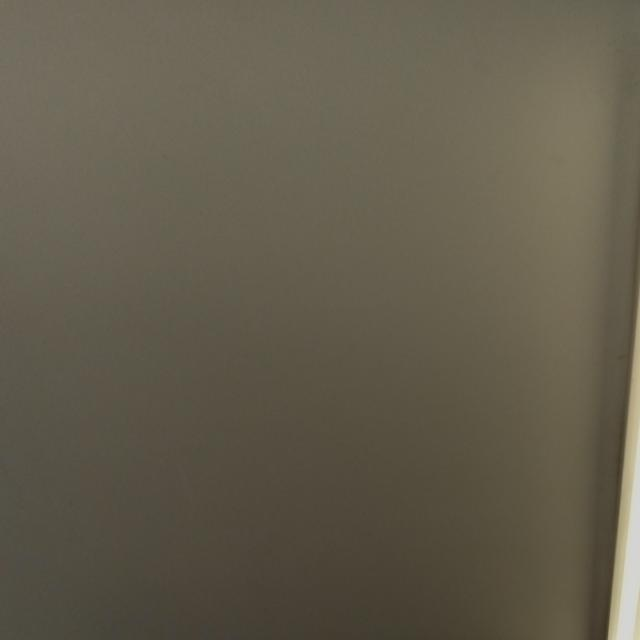fluorescent tube: (584, 0, 640, 640)
